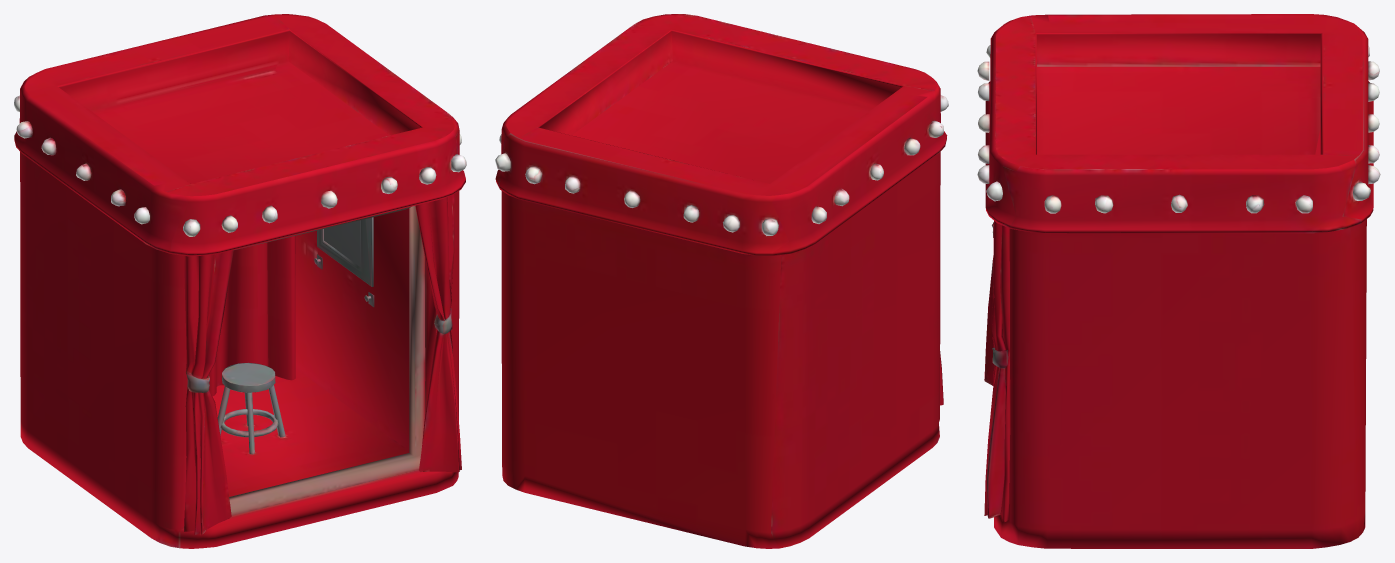
File: photo_booth.glb
The picture shows the model from 3 angles, left to right: view 1: azimuth 30°, elevation 25°; view 2: azimuth 150°, elevation 25°; view 3: azimuth 270°, elevation 25°; orthographic projection. The views are drawn at different scales.
Bounding box in the file's own units: 0.9219 × 0.9517 × 0.9195.
1 material, 1 textured.
